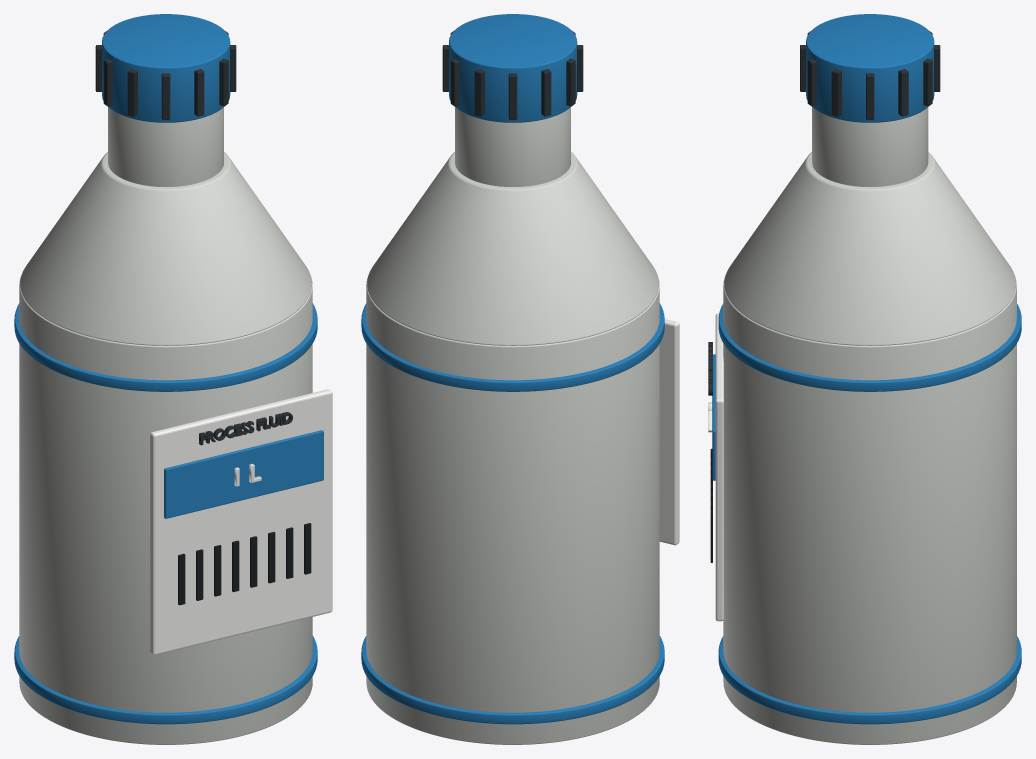
The model's file is reusable_process_bottle.glb.
The picture shows the model from 3 angles, left to right: view 1: azimuth 30°, elevation 25°; view 2: azimuth 150°, elevation 25°; view 3: azimuth 270°, elevation 25°; orthographic projection.
Parts seen in each view (by area): view 1: BOTTLE_BODY, BOTTLE_SHOULDER, BOTTLE_LABEL, BOTTLE_CAP, BOTTLE_LABEL_BAND, BOTTLE_NECK, BOTTLE_MOLDED_RIB_0.12, BOTTLE_MOLDED_RIB_0.72, BOTTLE_PRINT_PROCESS; view 2: BOTTLE_BODY, BOTTLE_SHOULDER, BOTTLE_CAP, BOTTLE_NECK, BOTTLE_LABEL, BOTTLE_MOLDED_RIB_0.12, BOTTLE_MOLDED_RIB_0.72; view 3: BOTTLE_BODY, BOTTLE_SHOULDER, BOTTLE_CAP, BOTTLE_NECK, BOTTLE_MOLDED_RIB_0.12, BOTTLE_MOLDED_RIB_0.72, BOTTLE_LABEL.
Part boxes in pixels (x1,y1,x2,y2): BOTTLE_BODY: (19, 276, 312, 744); BOTTLE_SHOULDER: (20, 152, 311, 345); BOTTLE_LABEL: (150, 389, 332, 655); BOTTLE_CAP: (102, 14, 230, 122); BOTTLE_LABEL_BAND: (164, 430, 323, 518); BOTTLE_NECK: (108, 107, 223, 186); BOTTLE_MOLDED_RIB_0.12: (14, 636, 317, 724); BOTTLE_MOLDED_RIB_0.72: (14, 303, 317, 391); BOTTLE_PRINT_PROCESS: (199, 412, 292, 445); BOTTLE_BODY: (366, 276, 659, 744); BOTTLE_SHOULDER: (367, 152, 658, 345); BOTTLE_CAP: (449, 14, 577, 122); BOTTLE_NECK: (455, 107, 570, 186); BOTTLE_LABEL: (659, 319, 679, 545); BOTTLE_MOLDED_RIB_0.12: (361, 636, 664, 724); BOTTLE_MOLDED_RIB_0.72: (361, 303, 664, 391); BOTTLE_BODY: (723, 276, 1016, 744); BOTTLE_SHOULDER: (724, 152, 1015, 345); BOTTLE_CAP: (806, 14, 934, 122); BOTTLE_NECK: (812, 107, 928, 186); BOTTLE_MOLDED_RIB_0.12: (718, 636, 1021, 724); BOTTLE_MOLDED_RIB_0.72: (718, 304, 1021, 391); BOTTLE_LABEL: (715, 313, 723, 621).
Bounding box in the file's own units: 0.496 × 1.16 × 0.513.
